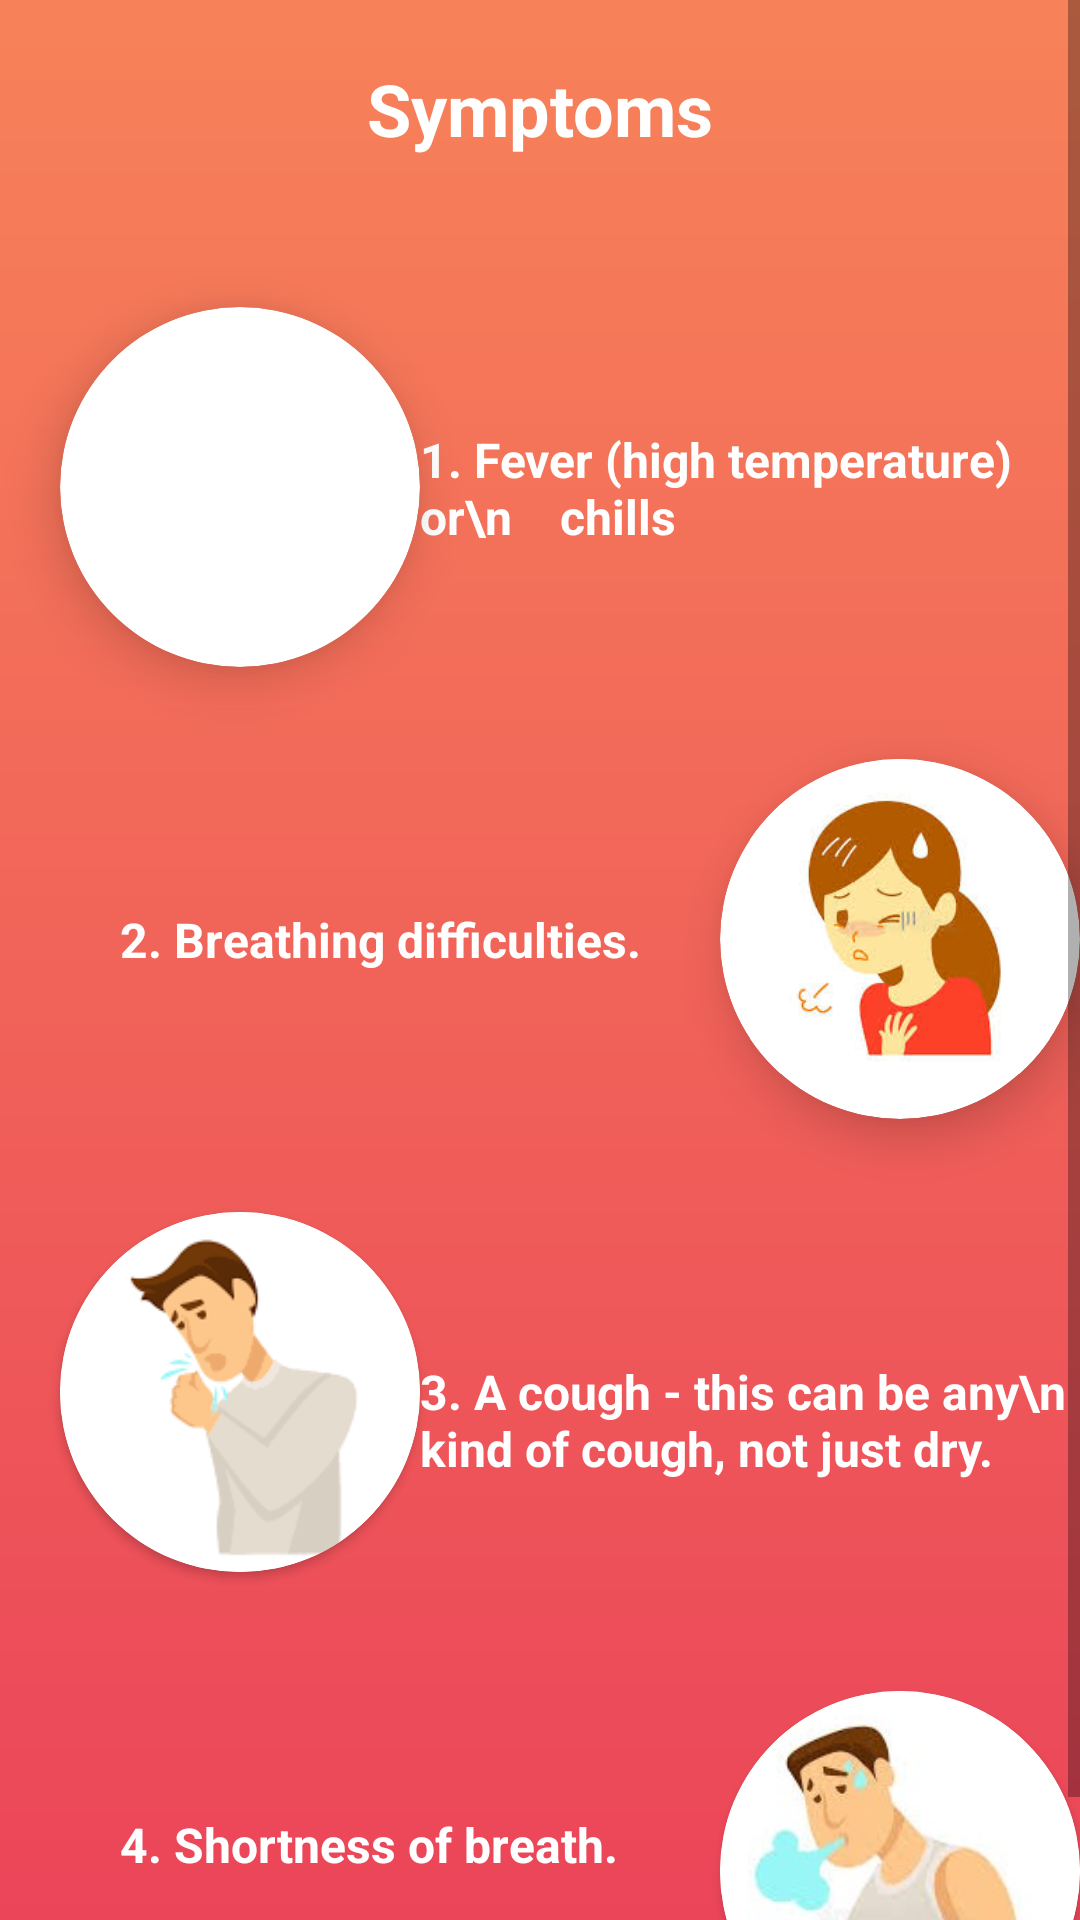

Where to tap for icons on this 1080 × 1920 app screen, as (x,y):
breathingproblem: (900,916)
coughing: (240,1392)
